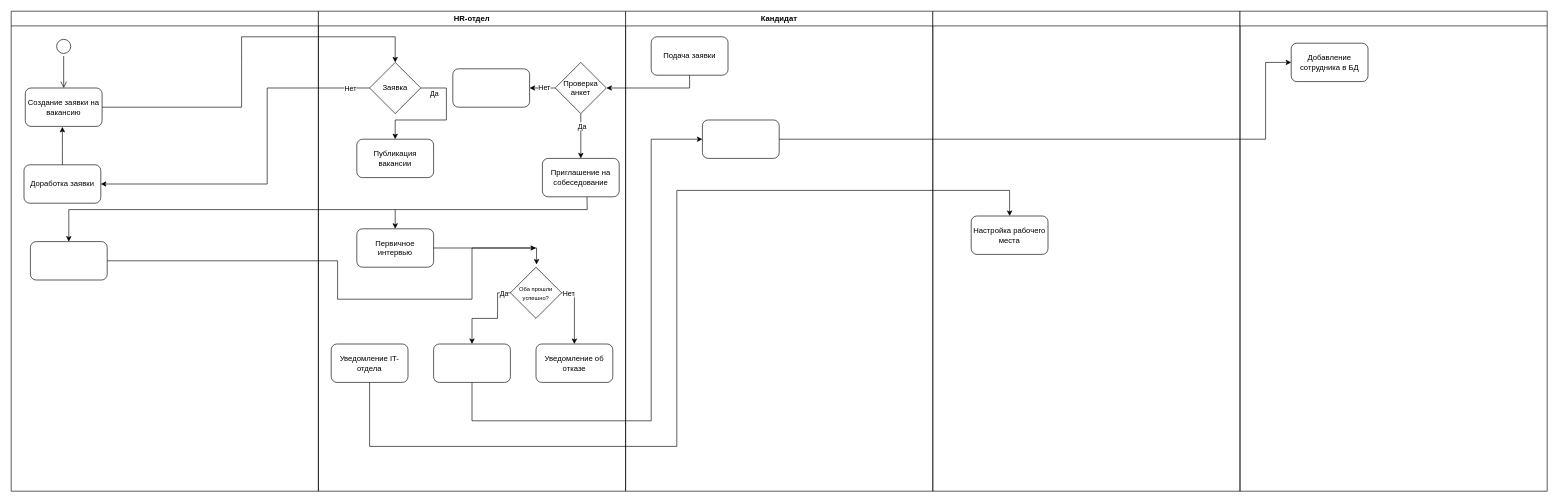
Image size: 1558x502. Some labels were removed from this diagram. Here are the shapes that lost their labels. From the top down, the box of each, then its label:
(452, 68, 530, 107): Отклонение заявки
(702, 119, 779, 158): Подтверждение оффера
(30, 241, 107, 280): Техническое собеседование
(11, 11, 318, 491): Руководитель
(932, 11, 1240, 491): IT-отдел
(1239, 11, 1547, 491): Система
(433, 343, 510, 382): Предлагается оффер
